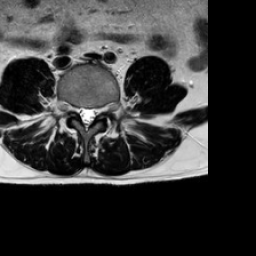CCS_normal: (83, 98, 90, 137)
LFS_normal: (97, 99, 104, 119)
LLS_normal: (90, 99, 97, 127)
RFS_normal: (69, 96, 76, 120)
RLS_normal: (76, 99, 83, 124)
